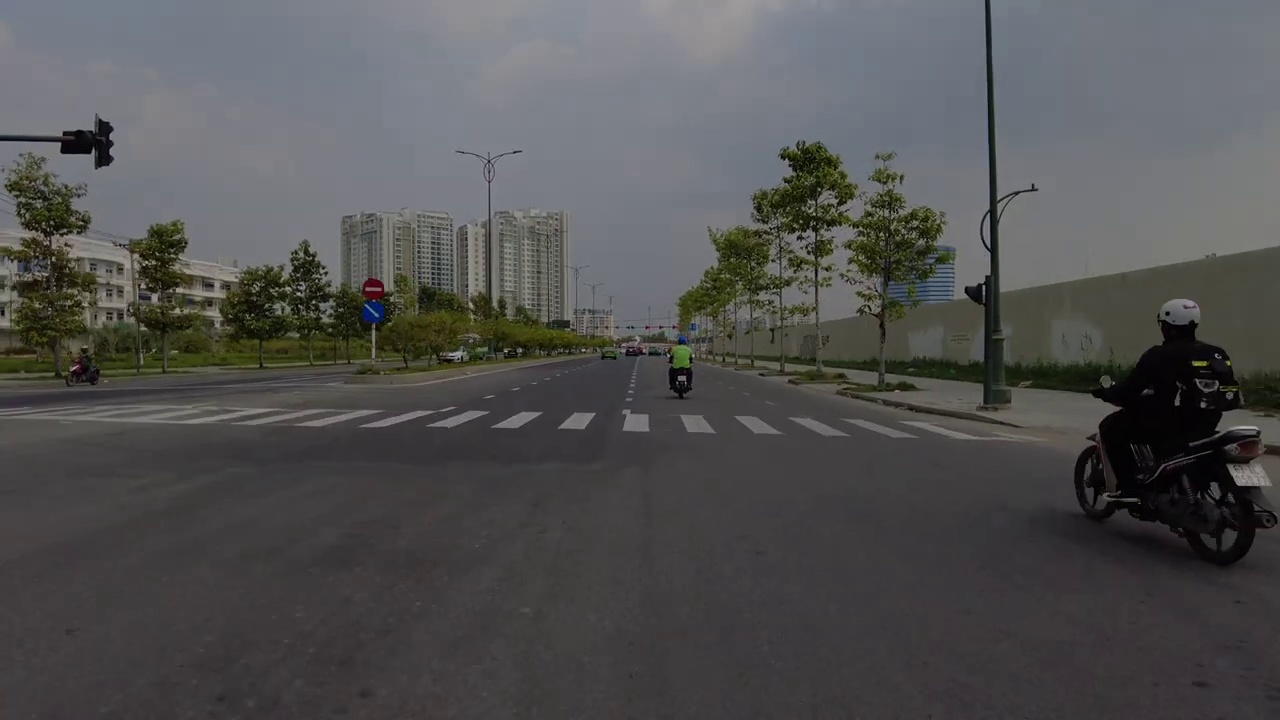cam_nguoc_chieu: (362, 278, 385, 300)
huong_phai_di_vong: (362, 301, 384, 323)
